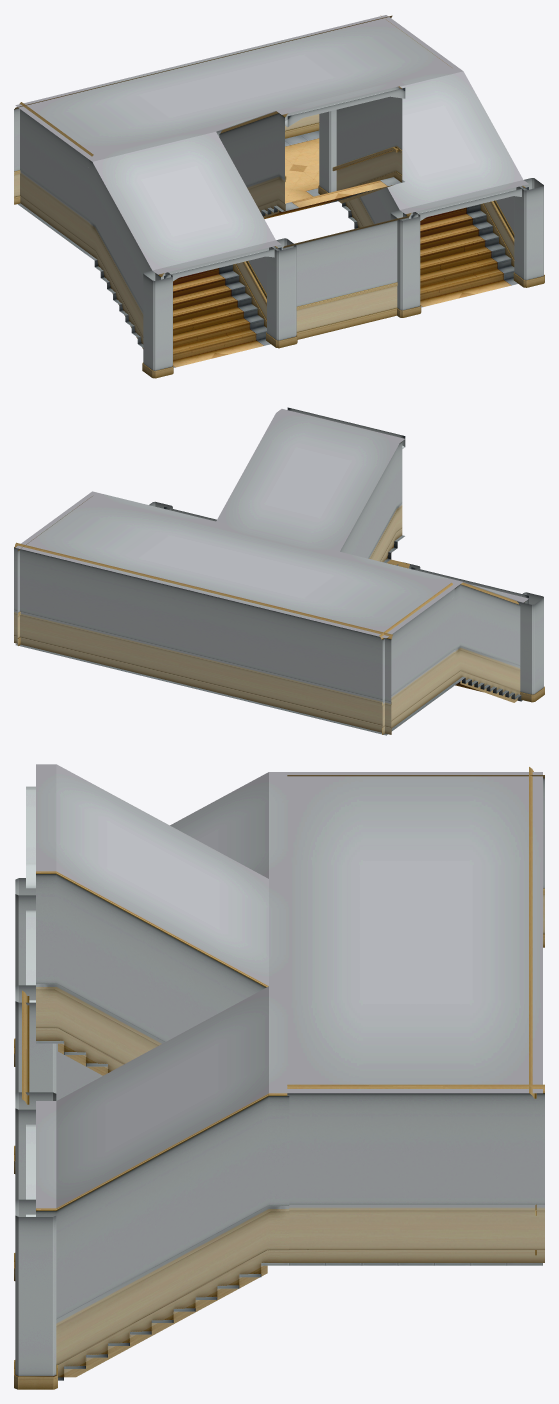
File: Double Stairs (First Floor) (merge).fbx
3 renders of one model, top to bottom at view 1: azimuth 30°, elevation 25°; view 2: azimuth 150°, elevation 25°; view 3: azimuth 270°, elevation 25°, orthographic. The views are drawn at different scales.
Parts seen in each view (by area): view 1: Ceiling (×4), Stairs (×3), LeftWall (×3), InteriorWall, RightWall (×3), InteriorWall (4), ExteriorColumn (3), ExteriorColumn (2), ExteriorColumn (4), ExteriorColumn (5), Supporter (×2), InteriorWall (2) (+4 smaller); view 2: Ceiling (×4), InteriorWall (2), InteriorWall (4), LeftWall, RightWall, ExteriorColumn (3), InteriorFloor (2), Stairs, Supporter (1); view 3: Ceiling (×4), InteriorWall (3), RightWall (×2), LeftWall, ExteriorColumn (2), ExteriorColumn (4), ExteriorColumn (5), Supporter (×2), ExteriorColumn (3), InteriorWall (2), Supporter (1), InteriorWall (+3 smaller).
Part boxes in pixels (box(x1,y1,x2,y2)): Ceiling (×4): box(15, 15, 528, 274); Stairs (×3): box(87, 177, 518, 367); LeftWall (×3): box(89, 86, 411, 348); InteriorWall: box(282, 215, 409, 339); RightWall (×3): box(219, 111, 525, 327); InteriorWall (4): box(19, 102, 93, 253); ExteriorColumn (3): box(142, 270, 173, 378); ExteriorColumn (2): box(513, 178, 544, 287); ExteriorColumn (4): box(266, 238, 297, 348); ExteriorColumn (5): box(390, 210, 421, 317); Supporter (×2): box(158, 186, 528, 281); InteriorWall (2): box(14, 15, 392, 204); Ceiling (×4): box(15, 409, 528, 638); InteriorWall (2): box(14, 542, 392, 734); InteriorWall (4): box(379, 582, 454, 734); LeftWall: box(454, 582, 526, 702); RightWall: box(340, 441, 402, 561); ExteriorColumn (3): box(517, 592, 544, 702); InteriorFloor (2): box(263, 682, 457, 735); Stairs: box(455, 677, 522, 701); Supporter (1): box(287, 407, 405, 448); Ceiling (×4): box(36, 764, 542, 1208); InteriorWall (3): box(287, 1084, 544, 1262); RightWall (×2): box(36, 1043, 289, 1377); LeftWall: box(36, 871, 268, 1075); ExteriorColumn (2): box(14, 1199, 57, 1389); ExteriorColumn (4): box(14, 985, 56, 1173); ExteriorColumn (5): box(14, 1092, 56, 1280); Supporter (×2): box(26, 910, 35, 1216); ExteriorColumn (3): box(14, 878, 35, 1066); InteriorWall (2): box(529, 767, 536, 1255); Supporter (1): box(26, 786, 35, 888); InteriorWall: box(22, 990, 29, 1104).
Size of the model in its own units: 12.69 by 7 by 8.38.
Materials: 8 (8 with a texture image).
